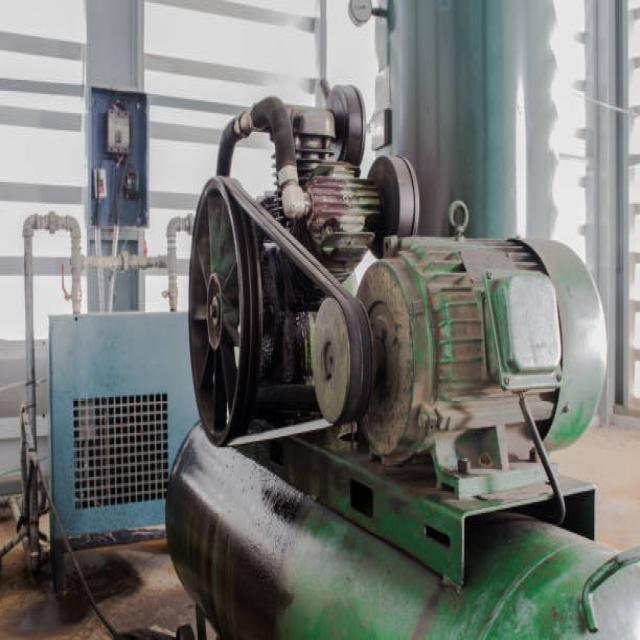compressor: (163, 78, 638, 637)
corrosion detected: (301, 158, 383, 268)
